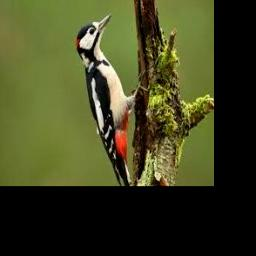Woodpecker: (77, 12, 150, 186)
